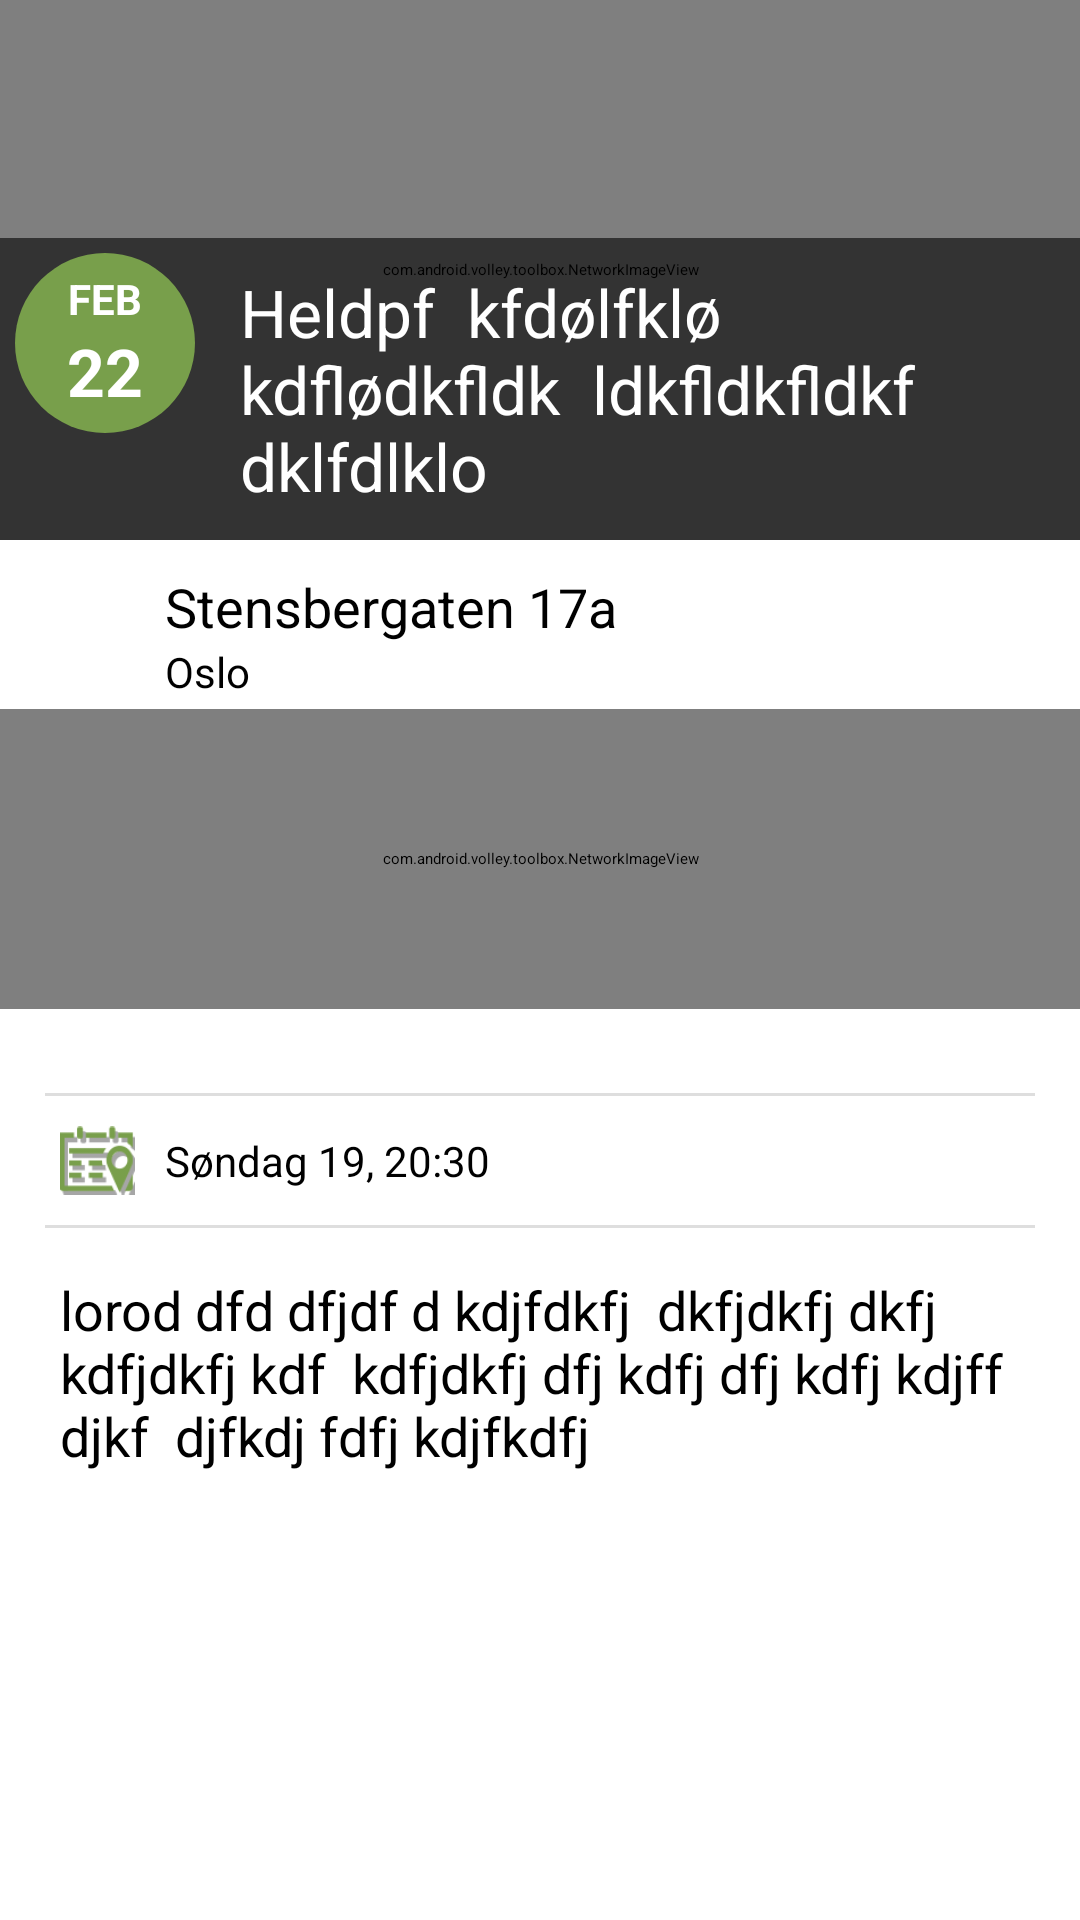

Where icons sit on this 1080 × 1920 app screen, as (x1, y1, x2, y2):
calendar: (60, 1126, 135, 1195)
